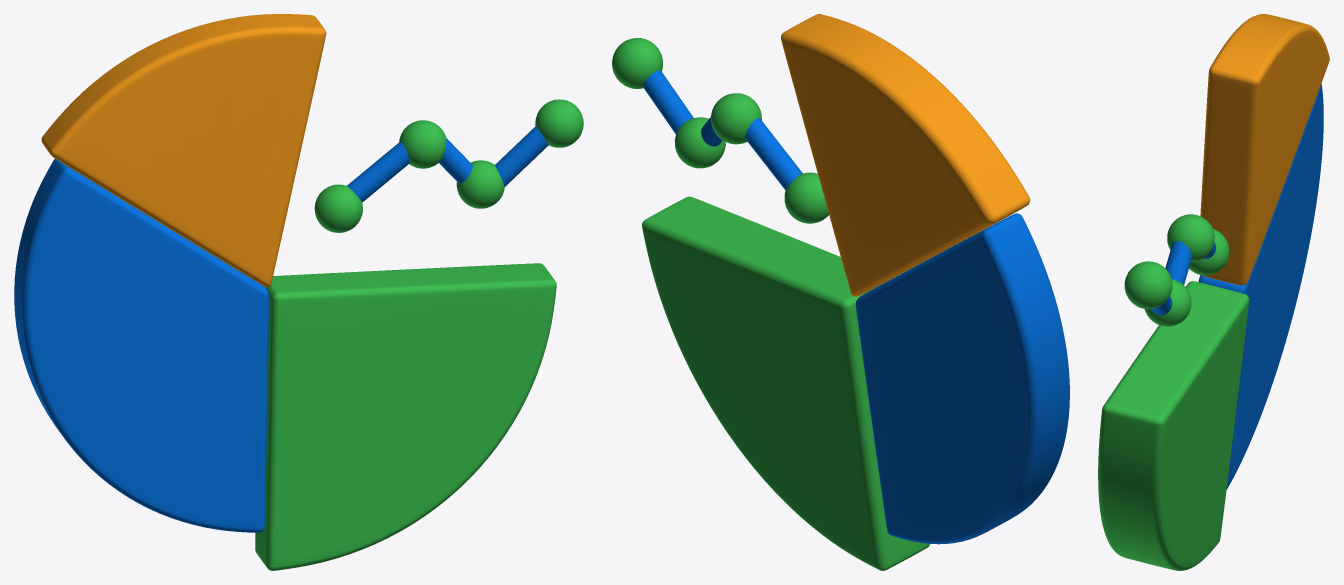
The model's file is pie-chart-3d-animated-icon-130273247464.glb.
3 renders of one model, left to right at view 1: azimuth 30°, elevation 25°; view 2: azimuth 150°, elevation 25°; view 3: azimuth 270°, elevation 25°, orthographic. The views are drawn at different scales.
Parts seen in each view (by area): view 1: Circle.002, Circle, Circle.001, Cylinder, Sphere, Sphere.003, Sphere.001, Sphere.002; view 2: Circle, Circle.002, Circle.001, Cylinder, Sphere.003, Sphere.001, Sphere, Sphere.002; view 3: Circle.002, Circle.001, Circle, Sphere.003, Sphere.001, Cylinder, Sphere.002, Sphere.
Part boxes in pixels (left/top/right/bottom): Circle.002: left=255, top=263, right=556, bottom=570; Circle: left=14, top=158, right=269, bottom=532; Circle.001: left=41, top=14, right=326, bottom=287; Cylinder: left=347, top=126, right=548, bottom=202; Sphere: left=314, top=184, right=362, bottom=232; Sphere.003: left=535, top=99, right=583, bottom=147; Sphere.001: left=399, top=120, right=446, bottom=168; Sphere.002: left=456, top=160, right=504, bottom=208; Circle: left=855, top=213, right=1069, bottom=544; Circle.002: left=642, top=196, right=929, bottom=570; Circle.001: left=781, top=14, right=1030, bottom=296; Cylinder: left=643, top=70, right=802, bottom=189; Sphere.003: left=612, top=38, right=662, bottom=88; Sphere.001: left=711, top=93, right=761, bottom=144; Sphere: left=784, top=172, right=828, bottom=223; Sphere.002: left=674, top=117, right=725, bottom=168; Circle.002: left=1098, top=281, right=1249, bottom=570; Circle.001: left=1200, top=14, right=1329, bottom=285; Circle: left=1198, top=83, right=1323, bottom=489; Sphere.003: left=1124, top=261, right=1172, bottom=309; Sphere.001: left=1167, top=214, right=1214, bottom=262; Cylinder: left=1151, top=241, right=1216, bottom=315; Sphere.002: left=1144, top=279, right=1191, bottom=326; Sphere: left=1189, top=229, right=1229, bottom=275.
Bounding box in the file's own units: 3.02 × 3.03 × 1.24.
